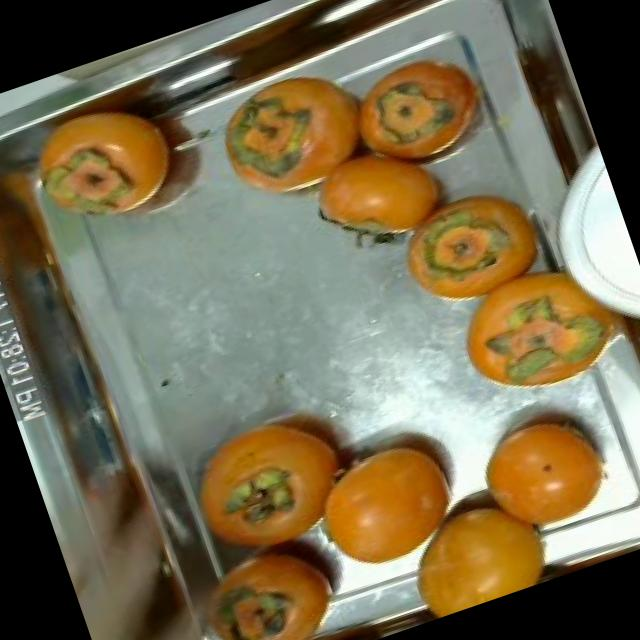Fruit: (158, 376, 390, 581), (192, 45, 410, 227), (282, 403, 489, 584), (2, 79, 209, 260), (375, 462, 579, 626), (373, 161, 570, 330), (287, 108, 480, 268), (453, 384, 636, 548), (340, 27, 517, 193)
